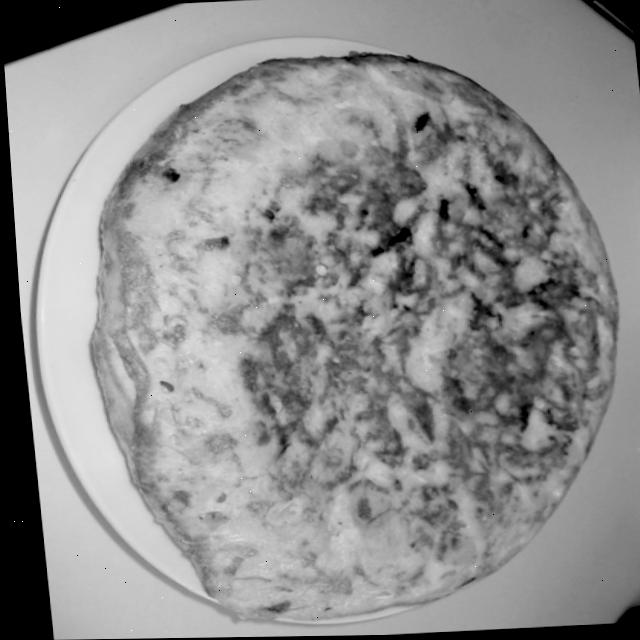面包点心: (15, 32, 640, 638)
